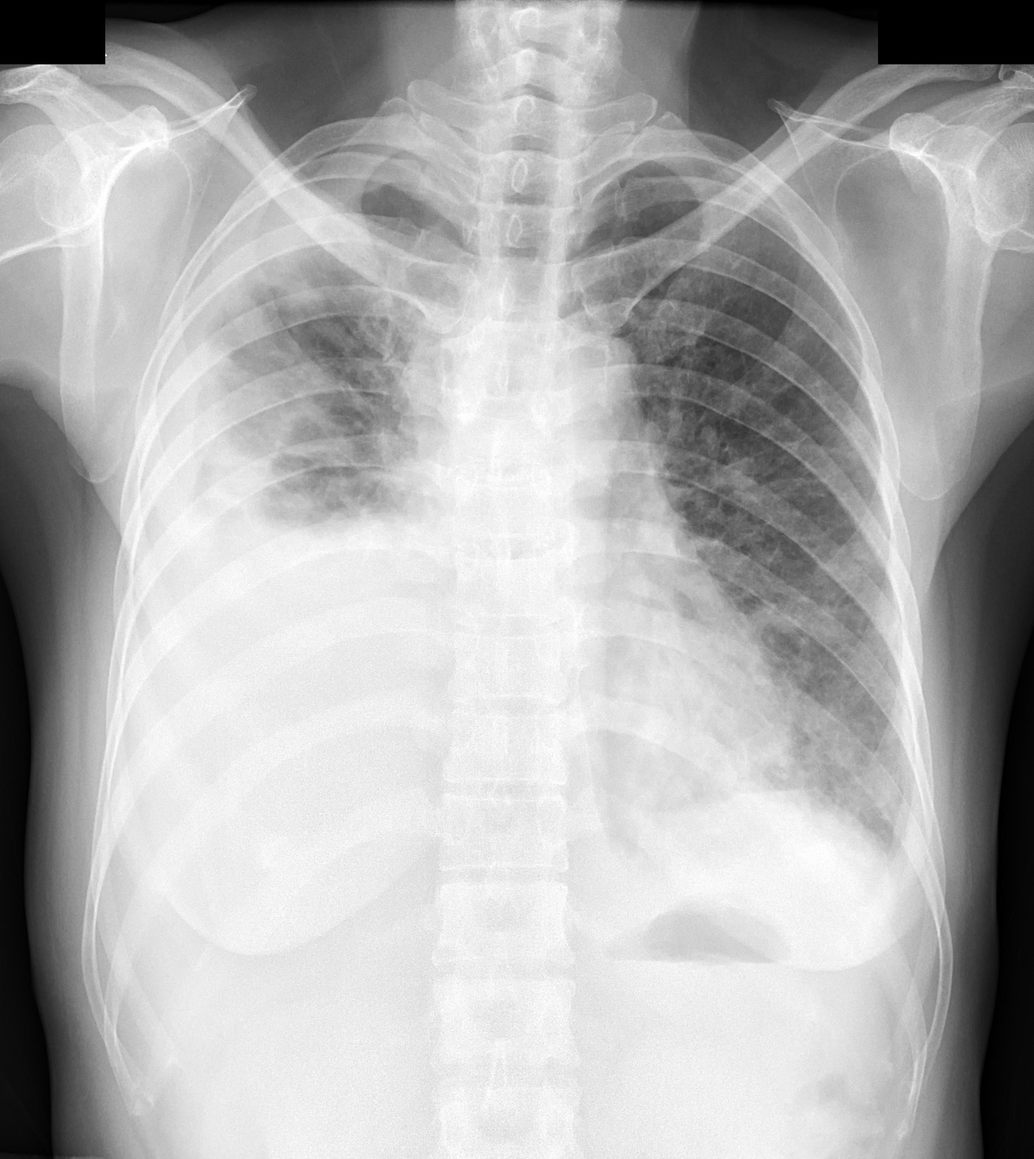Pleural thickening: (220, 146, 414, 238)
Pulmonary fibrosis: (175, 238, 418, 526)
